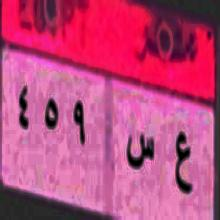4: (14, 81, 32, 139)
5: (44, 94, 60, 138)
9: (72, 100, 86, 153)
ain: (174, 128, 193, 202)
seen: (125, 130, 156, 179)
